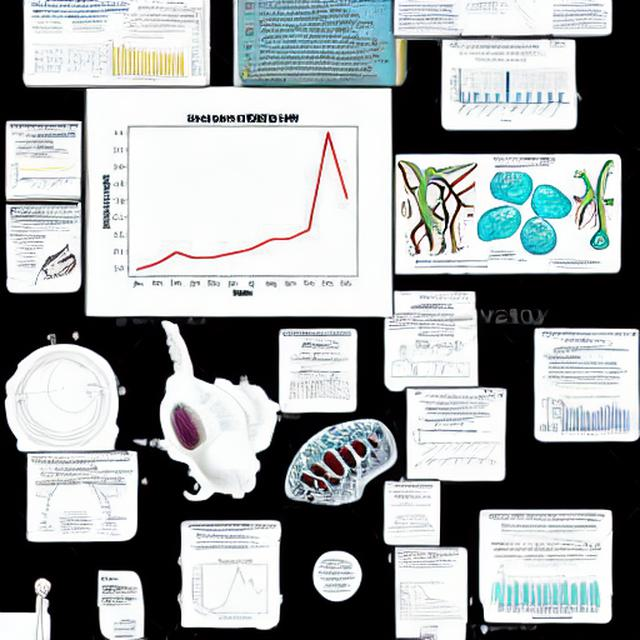Graph: (91, 89, 387, 311), (445, 49, 567, 125), (190, 556, 277, 621), (103, 34, 185, 84), (552, 393, 633, 439), (8, 152, 79, 193), (411, 417, 481, 457), (412, 331, 463, 361)
